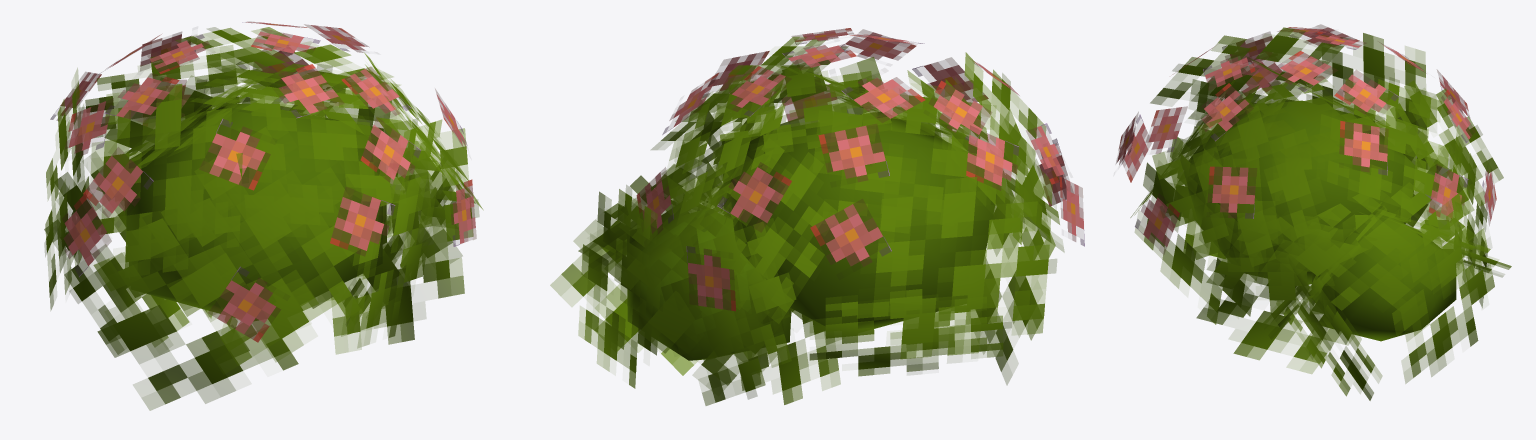
File: shrub_flowering.glb
3 renders of one model, left to right at view 1: azimuth 30°, elevation 25°; view 2: azimuth 150°, elevation 25°; view 3: azimuth 270°, elevation 25°, orthographic. The views are drawn at different scales.
Parts seen in each view (by area): view 1: shrub_flowering_Leaf_Light, shrub_flowering_Bloom_Pink, shrub_flowering_Core_Light; view 2: shrub_flowering_Leaf_Light, shrub_flowering_Core_Light, shrub_flowering_Bloom_Pink; view 3: shrub_flowering_Leaf_Light, shrub_flowering_Core_Light, shrub_flowering_Bloom_Pink.
Part boxes in pixels (box(x1,y1,x2,y2)): shrub_flowering_Leaf_Light: box(44, 27, 482, 410); shrub_flowering_Bloom_Pink: box(50, 21, 476, 342); shrub_flowering_Core_Light: box(125, 103, 386, 320); shrub_flowering_Leaf_Light: box(550, 36, 1064, 405); shrub_flowering_Core_Light: box(627, 112, 997, 360); shrub_flowering_Bloom_Pink: box(636, 28, 1084, 311); shrub_flowering_Leaf_Light: box(1130, 27, 1511, 400); shrub_flowering_Core_Light: box(1187, 100, 1456, 341); shrub_flowering_Bloom_Pink: box(1116, 24, 1496, 254).
Bounding box in the file's own units: 2.4 × 1.85 × 2.08.
3 materials, 2 textured.
